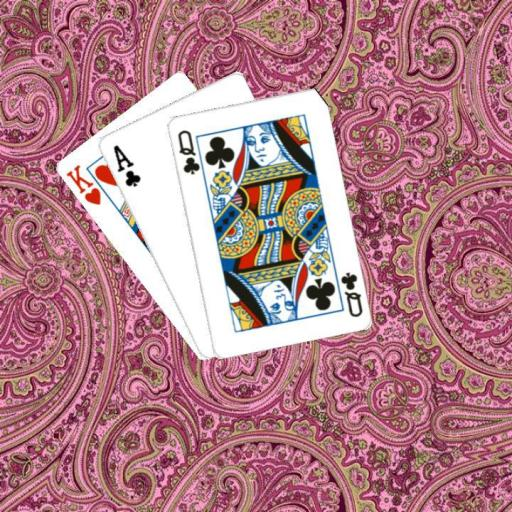AC: (110, 142, 142, 189)
KH: (63, 161, 103, 207)
QC: (174, 127, 201, 177), (337, 269, 364, 319)
